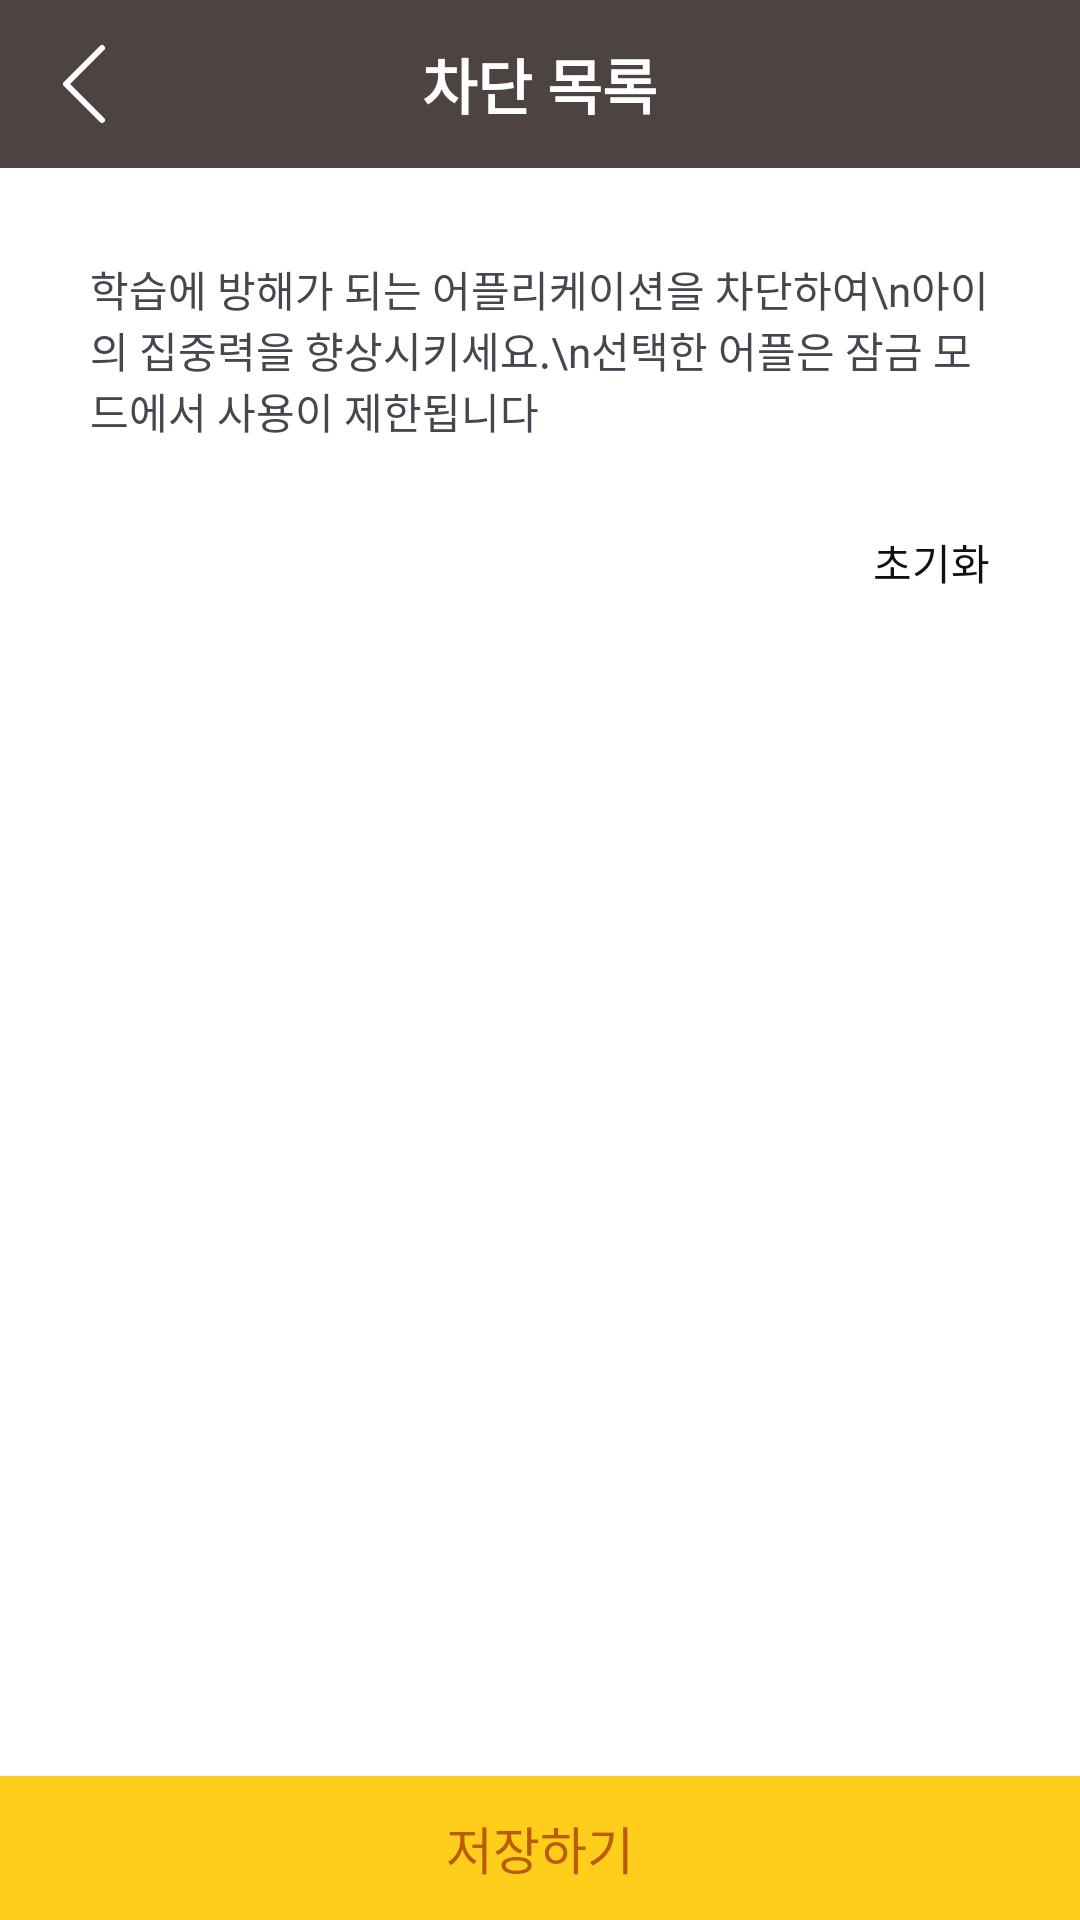

Named icons in this screenshot (1080×1920) and their bounding boxes, {"x1": x1, "y1": y1, "x2": x2, "y2": y2}:
back: {"x1": 63, "y1": 44, "x2": 105, "y2": 123}
